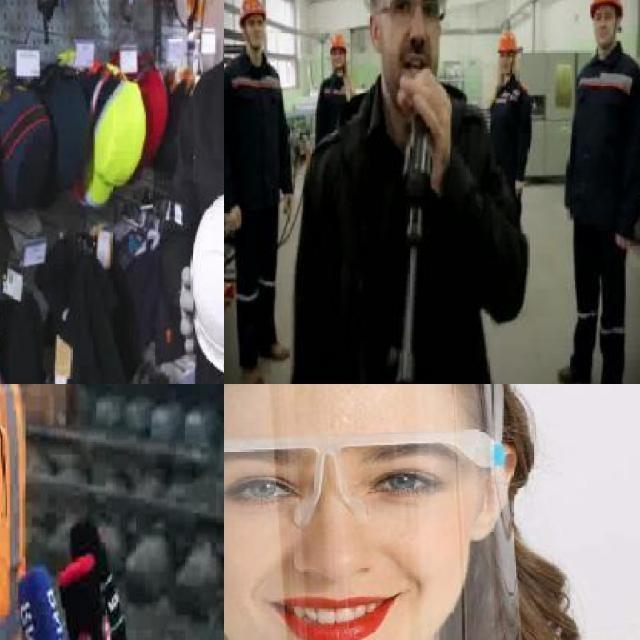apron: (177, 264, 196, 358)
